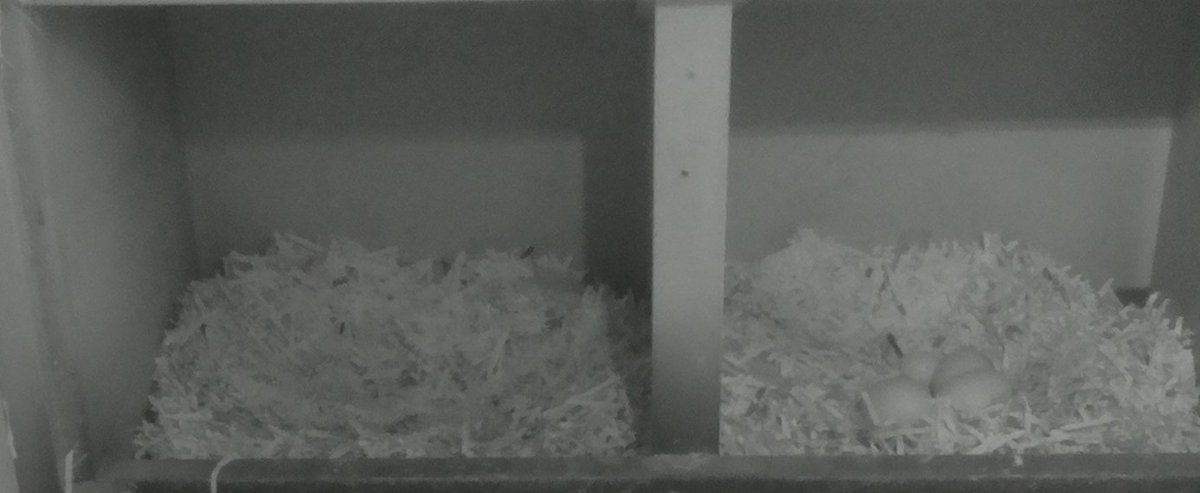egg: (860, 371, 935, 425), (940, 371, 1018, 417), (933, 345, 1000, 385), (898, 349, 944, 385)
